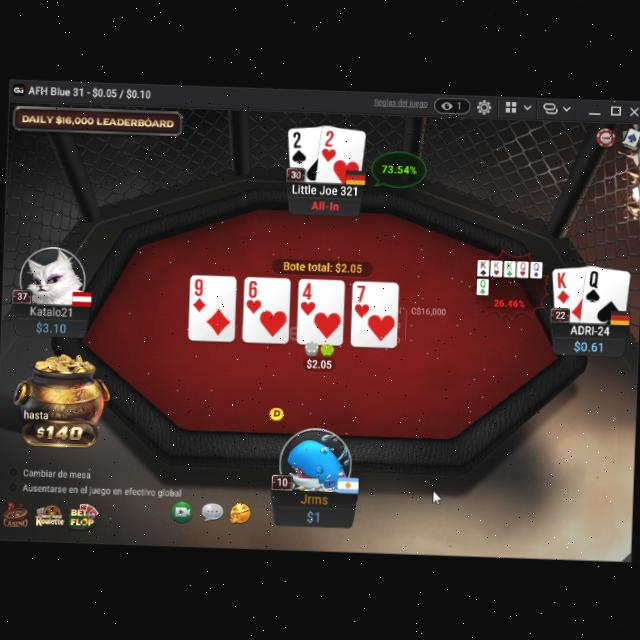2h: (320, 128, 338, 162)
2s: (290, 127, 308, 163)
4h: (299, 278, 317, 314)
6h: (245, 276, 263, 314)
7h: (353, 280, 371, 317)
9d: (190, 274, 208, 314)
Kd: (555, 266, 572, 302)
Qs: (584, 266, 602, 302)
all_in_symbol: (309, 196, 341, 210)
bet_text: (305, 356, 334, 370)
dealer: (266, 402, 286, 421)
pot_text: (282, 258, 366, 272)
stack_text: (34, 318, 67, 333), (573, 338, 604, 353), (304, 506, 322, 524)
